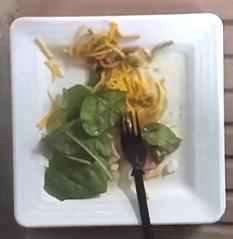salad: (39, 22, 181, 200)
